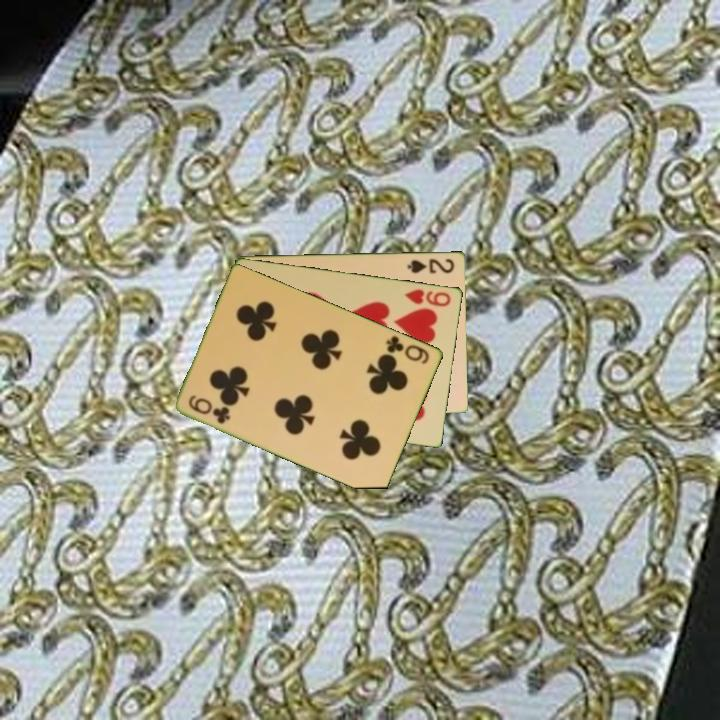2s: (404, 255, 457, 276)
6c: (383, 332, 433, 367), (185, 391, 233, 427)
9h: (401, 285, 454, 309)
